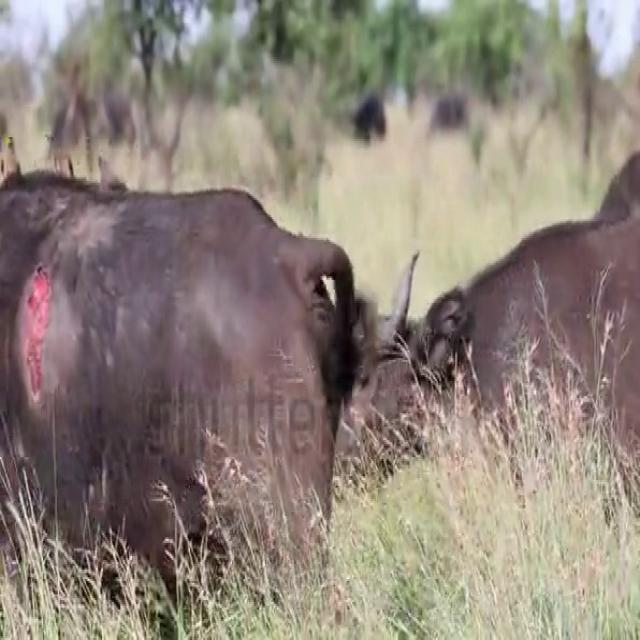injured-animals: (2, 168, 366, 598)
